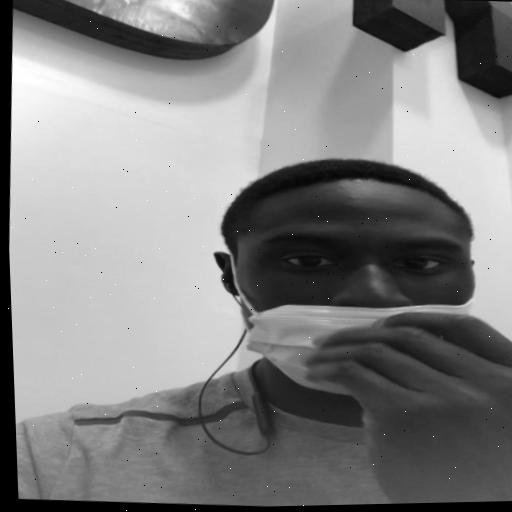mask: (218, 197, 486, 405)
